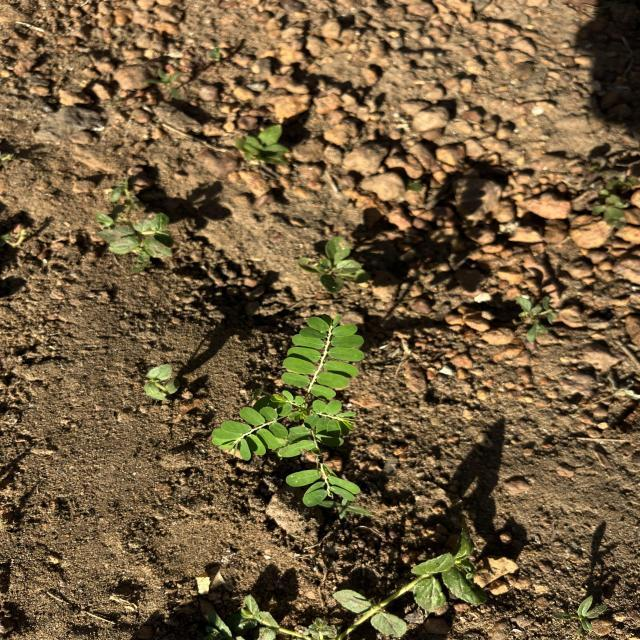Phyllanthus niruri: (279, 314, 365, 400), (208, 406, 290, 464), (304, 396, 360, 434)
